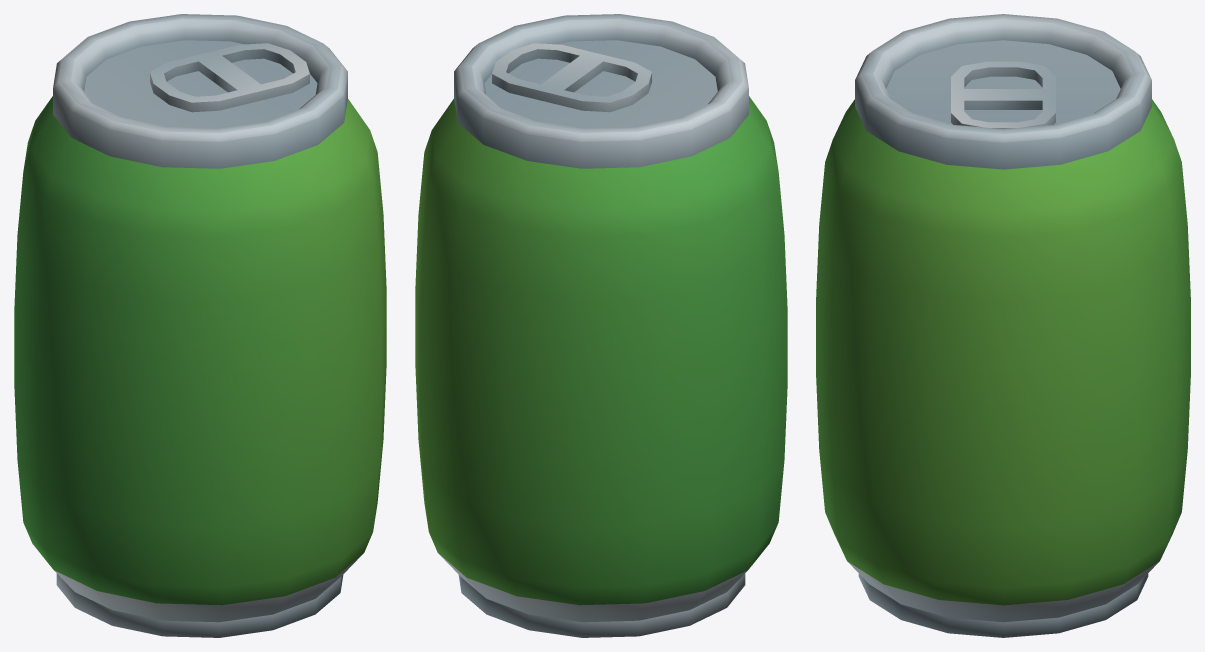
Rendered from can_009.fbx.
3 views of the same model, side by side, from view 1: azimuth 30°, elevation 25°; view 2: azimuth 150°, elevation 25°; view 3: azimuth 270°, elevation 25° (orthographic).
Visible parts, largest first — view 1: can_009; view 2: can_009; view 3: can_009.
Boxes of the visible parts, bbox=[...] form: can_009: bbox=[14, 14, 386, 637]; can_009: bbox=[415, 14, 787, 637]; can_009: bbox=[816, 14, 1190, 637].
Bounding box in the file's own units: 7.77 × 7.77 × 11.64.
